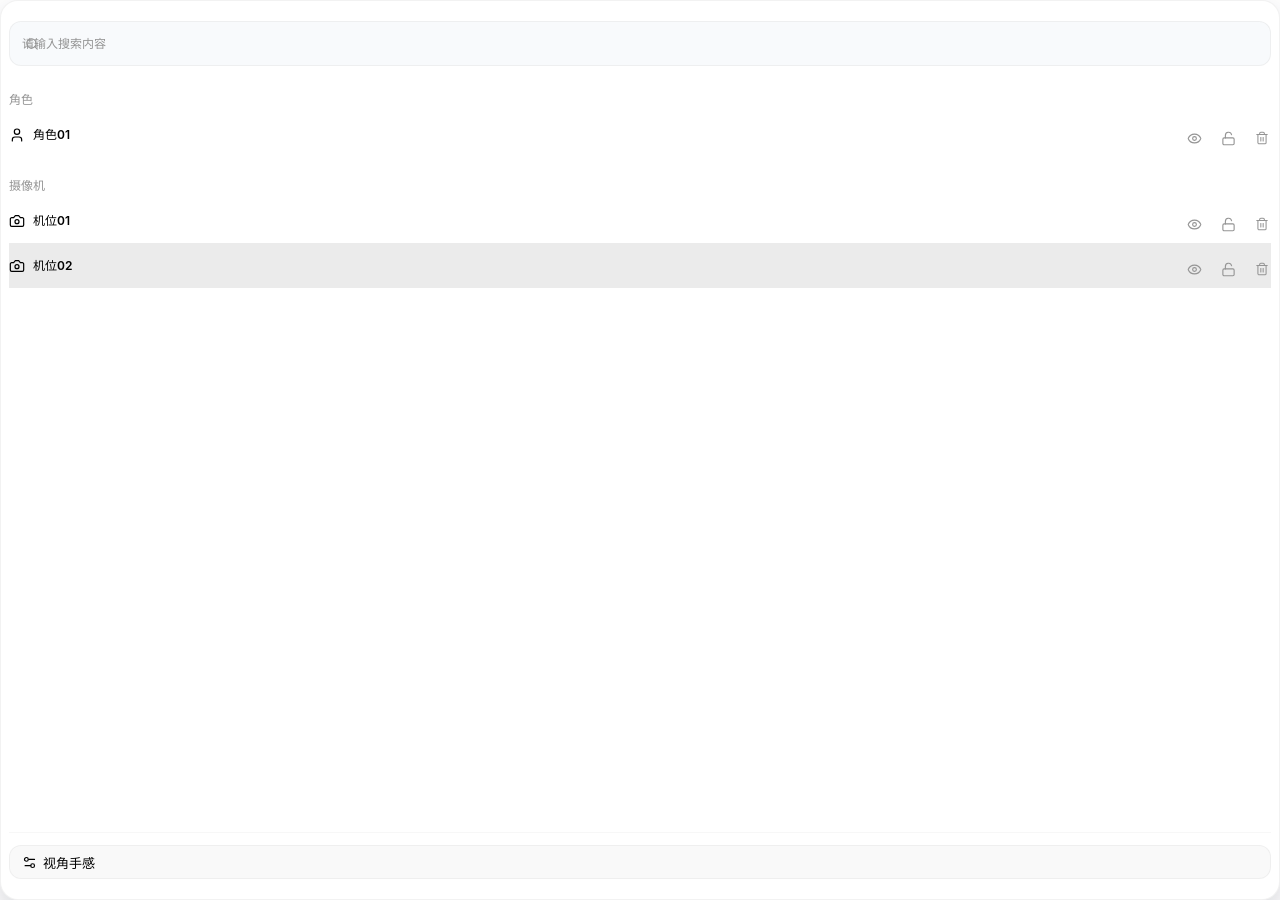
deletes a camera and its linked camera data from its row action
Step 1. Click the button named "删除 机位02" → (1256, 266), box [1243,252,1269,280]
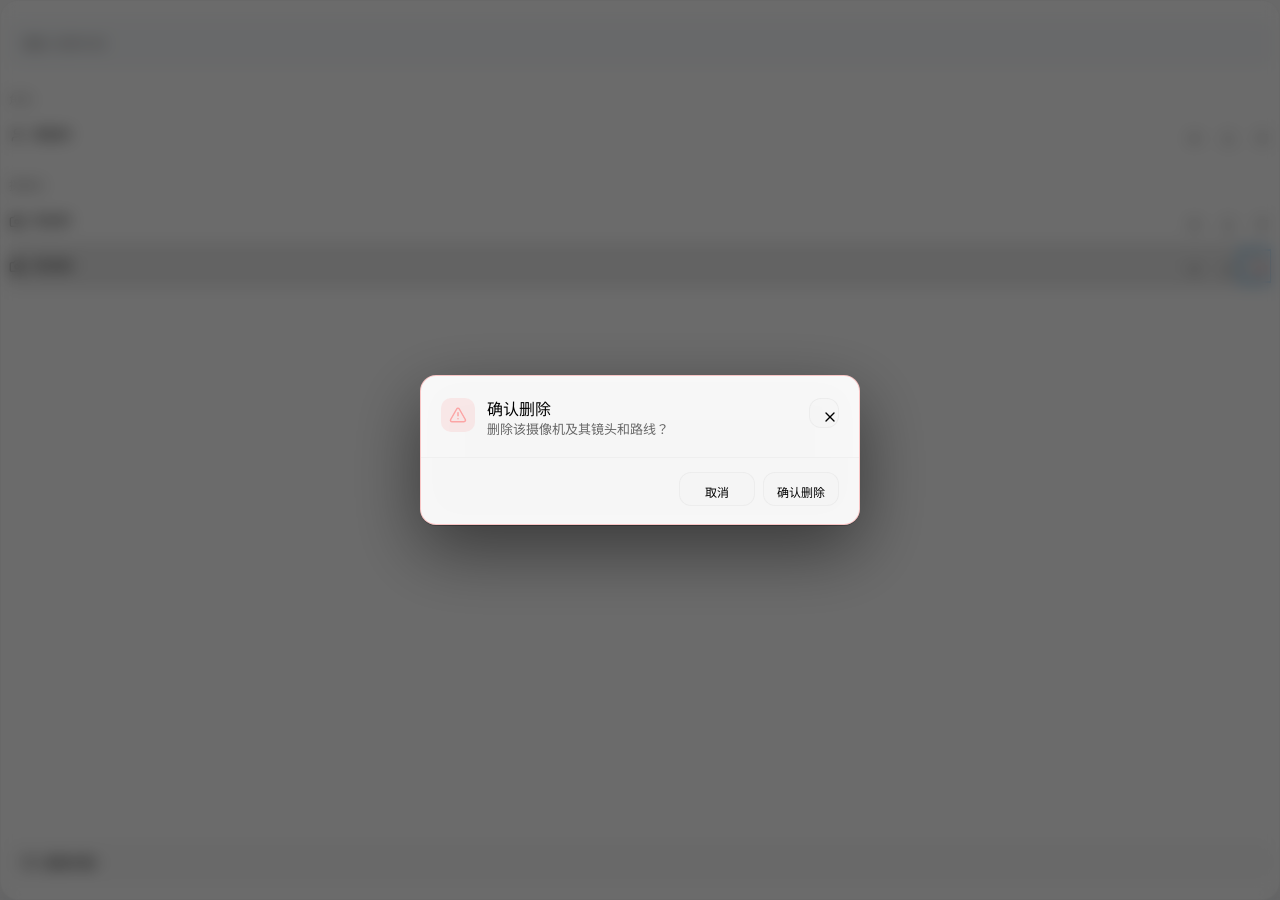
Step 2. Click the button "确认删除" → (801, 489), box [763,472,839,506]
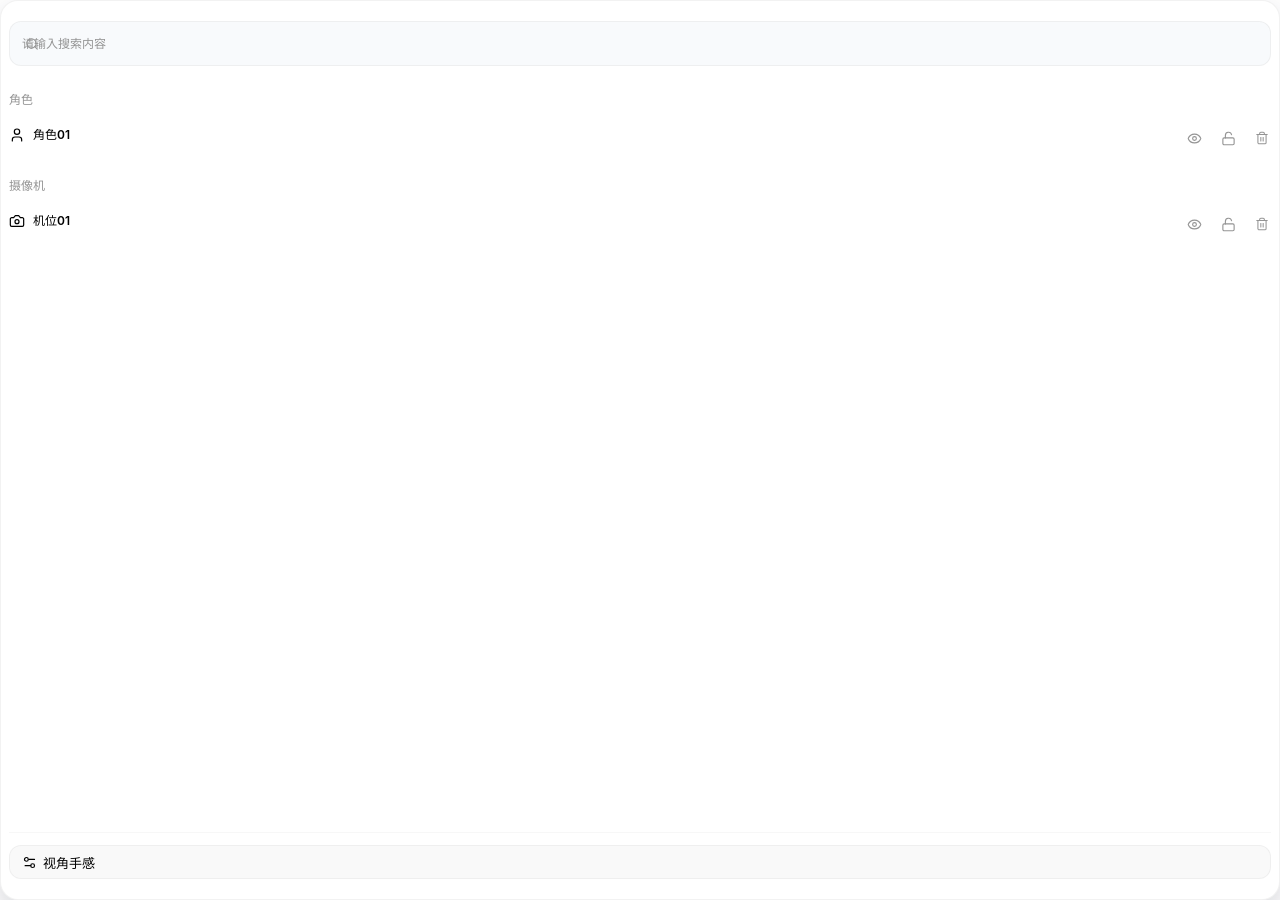
Expected: the button "机位02" is gone
